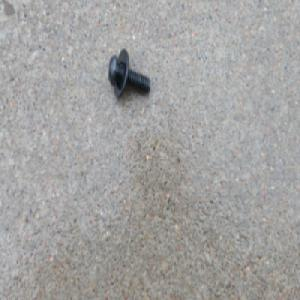BoltWasher: (107, 48, 150, 99)
